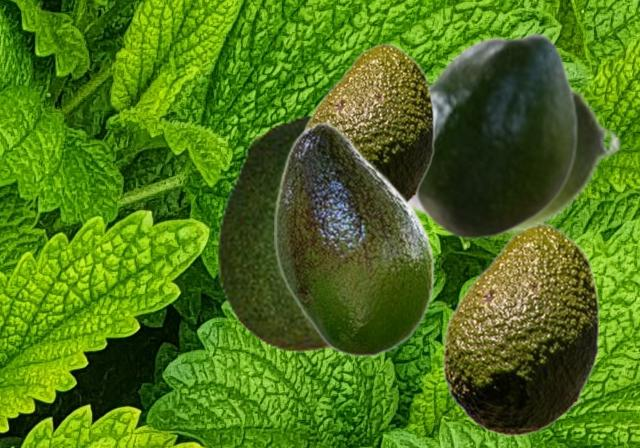avocado: (274, 121, 434, 356), (414, 31, 577, 239), (412, 75, 622, 236), (442, 223, 598, 436), (216, 112, 332, 351), (301, 43, 433, 201)
